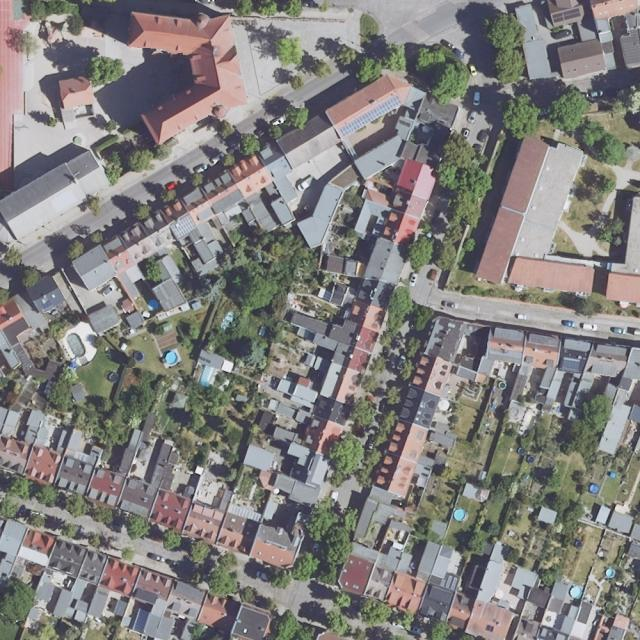PV: (339, 95, 402, 137), (170, 215, 196, 240), (551, 8, 581, 24), (439, 575, 457, 591), (563, 359, 579, 371)
ST: (40, 298, 53, 311), (199, 356, 212, 364)
